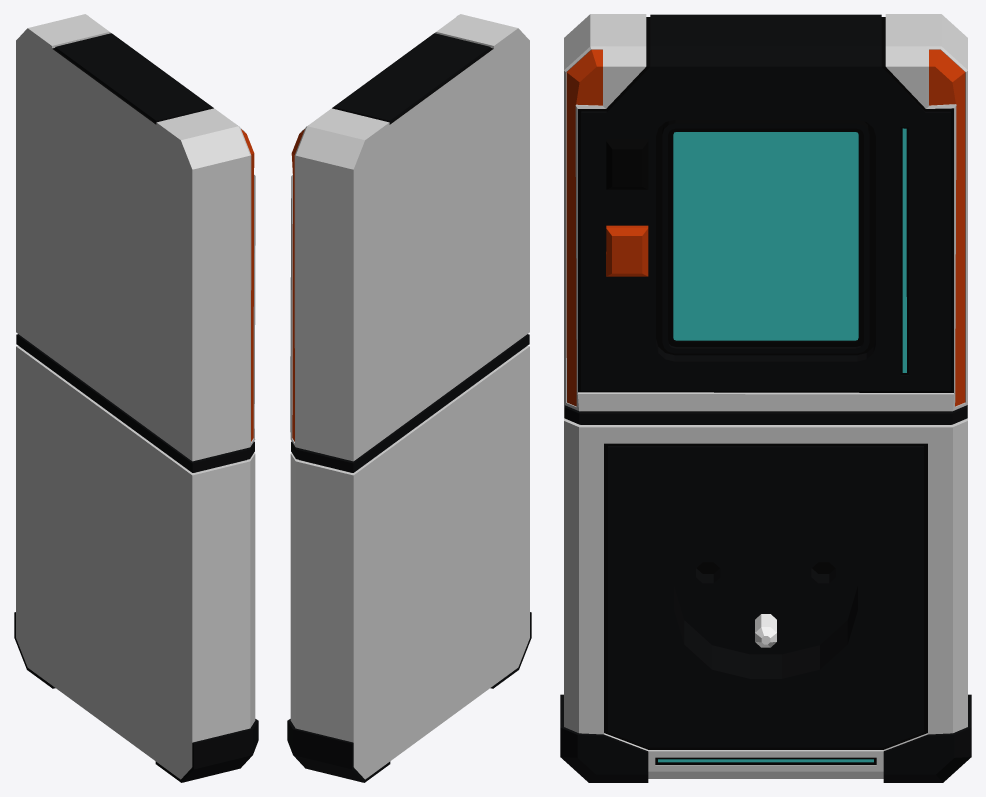
File: SM_Wall_Power_Console.obj
The picture shows the model from 3 angles, left to right: view 1: azimuth 30°, elevation 25°; view 2: azimuth 150°, elevation 25°; view 3: azimuth 270°, elevation 25°; orthographic projection. The views are drawn at different scales.
Visible parts, largest first — view 1: SM_Wall_Power_Console; view 2: SM_Wall_Power_Console; view 3: SM_Wall_Power_Console.
Part boxes in pixels (x1=…): SM_Wall_Power_Console: x1=14, y1=14, x2=258, y2=782; SM_Wall_Power_Console: x1=287, y1=14, x2=531, y2=782; SM_Wall_Power_Console: x1=560, y1=14, x2=971, y2=782.
Size of the model in its own units: 0.0282 by 0.221 by 0.1119.
